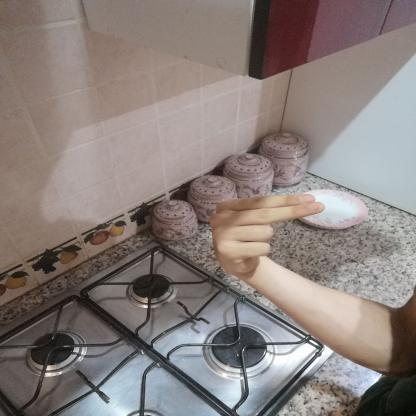AYN: (190, 182, 338, 282)
